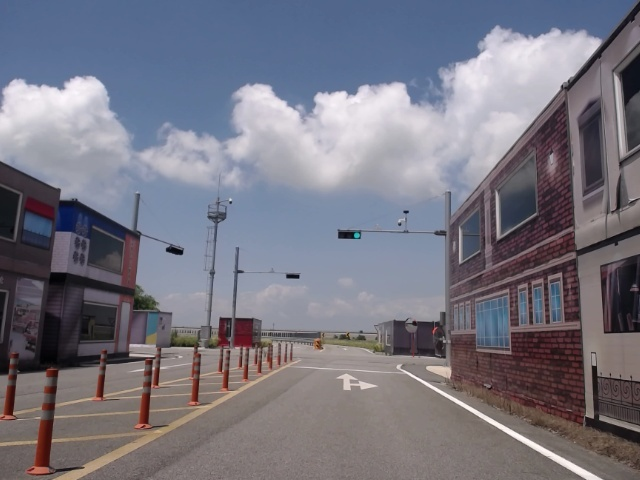green_3: (338, 231, 360, 239)
